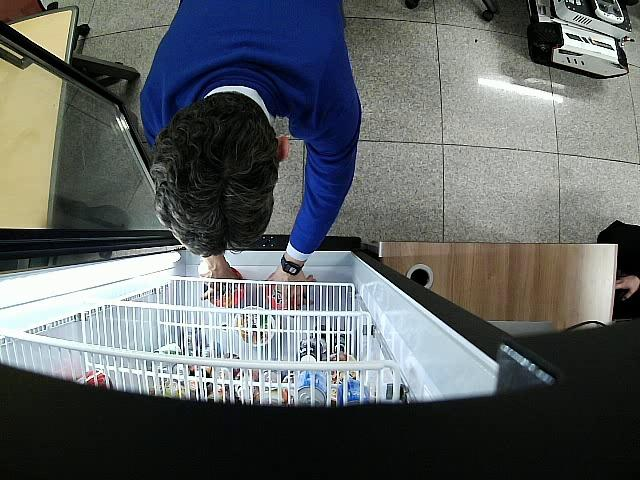00_hand: (198, 254, 238, 300), (266, 274, 316, 309)
01_shinRamen_L: (211, 268, 244, 308), (266, 287, 282, 310)
